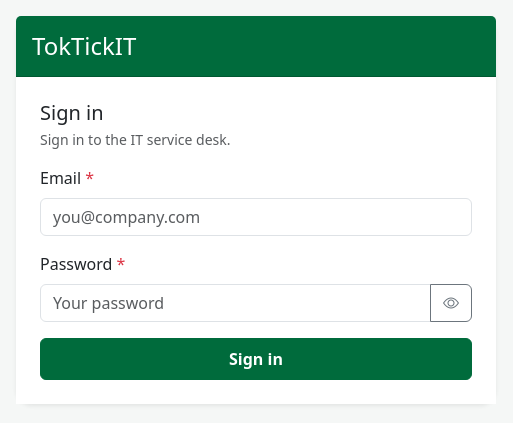
Test: Login (lab-03) › toggles password visibility with an accessible label
Click the button named "Show password".
click(451, 303)  # box x1=430 y1=284 x2=472 y2=322
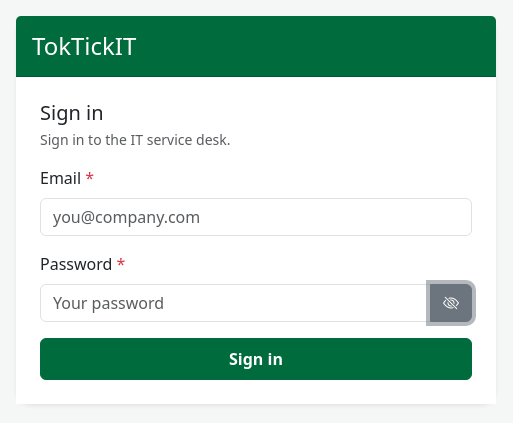
Expected: the button named "Hide password" is shown, x1=430 y1=284 x2=472 y2=322
